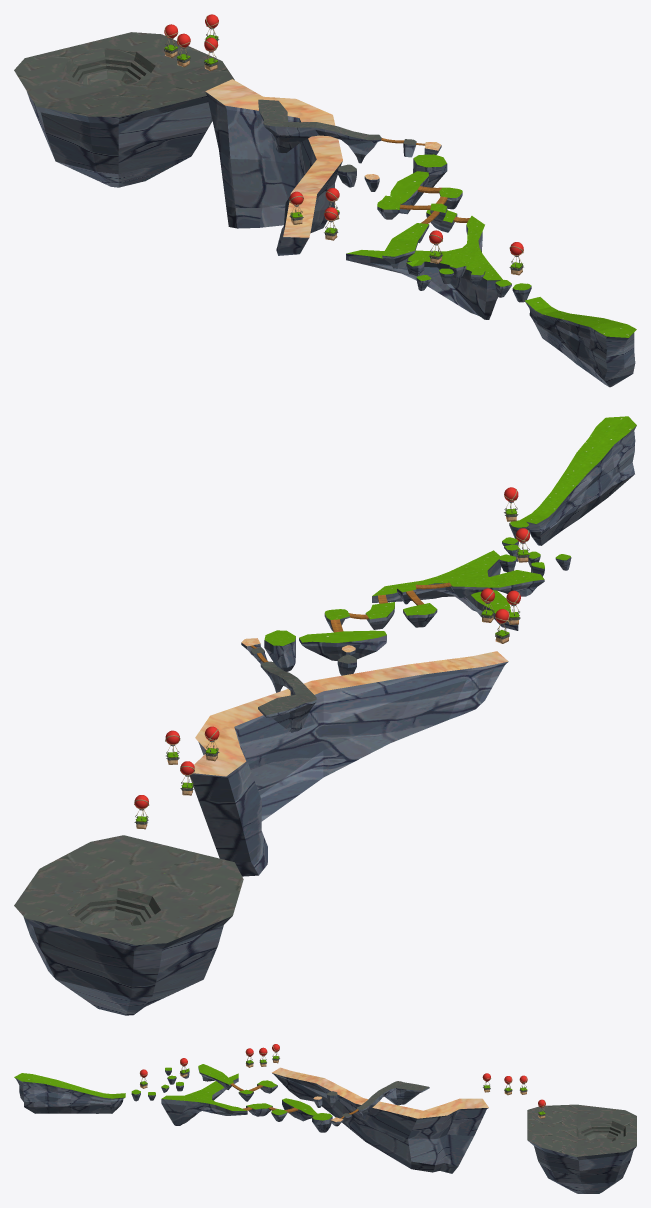
Rendered from Nivel 3.fbx.
3 views of the same model, one above another, from view 1: azimuth 30°, elevation 25°; view 2: azimuth 150°, elevation 25°; view 3: azimuth 270°, elevation 25° (orthographic). The views are drawn at different scales.
Parts seen in each view (by area): view 1: Cube.022, Cube.024, Cube.028, Cube.035, Cube.021, Cube.029, Cube.025; view 2: Cube.022, Cube.024, Cube.035, Cube.028, Cube.029, Cube.021, Cube.025; view 3: Cube.024, Cube.022, Cube.035, Cube.028, Cube.021, Cube.029, Cube.025.
Boxes of the visible parts, x1=… form: Cube.022: x1=14, y1=32, x2=234, y2=187; Cube.024: x1=205, y1=79, x2=342, y2=255; Cube.028: x1=346, y1=171, x2=502, y2=319; Cube.035: x1=524, y1=297, x2=636, y2=387; Cube.021: x1=258, y1=99, x2=441, y2=163; Cube.029: x1=377, y1=195, x2=447, y2=268; Cube.025: x1=413, y1=154, x2=447, y2=187; Cube.022: x1=14, y1=835, x2=243, y2=1015; Cube.024: x1=190, y1=651, x2=508, y2=876; Cube.035: x1=520, y1=416, x2=636, y2=545; Cube.028: x1=299, y1=550, x2=518, y2=660; Cube.029: x1=397, y1=570, x2=544, y2=627; Cube.021: x1=241, y1=638, x2=316, y2=732; Cube.025: x1=264, y1=630, x2=295, y2=671; Cube.024: x1=272, y1=1067, x2=488, y2=1173; Cube.022: x1=527, y1=1104, x2=636, y2=1193; Cube.035: x1=14, y1=1073, x2=125, y2=1113; Cube.028: x1=161, y1=1073, x2=317, y2=1125; Cube.021: x1=330, y1=1081, x2=429, y2=1126; Cube.029: x1=198, y1=1064, x2=277, y2=1101; Cube.025: x1=312, y1=1113, x2=332, y2=1132.
Size of the model in its own units: 8658 by 8490 by 39172.
Materials: 58 (34 with a texture image).
